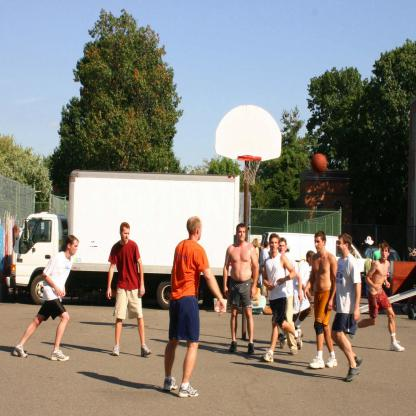Ball: (311, 154, 328, 172)
